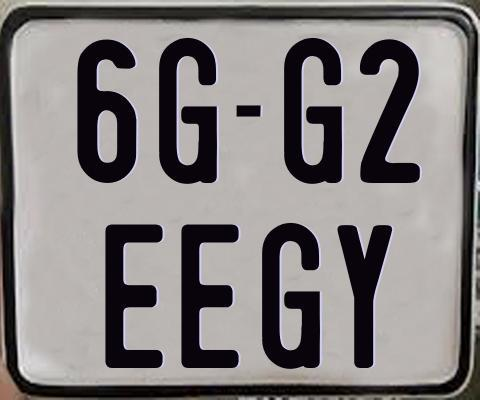2: (358, 36, 423, 182)
6: (75, 36, 140, 180)
E: (181, 223, 245, 368), (102, 221, 161, 367)
G: (157, 37, 219, 187), (261, 221, 324, 368), (283, 35, 342, 183)
Y: (334, 224, 395, 373)
